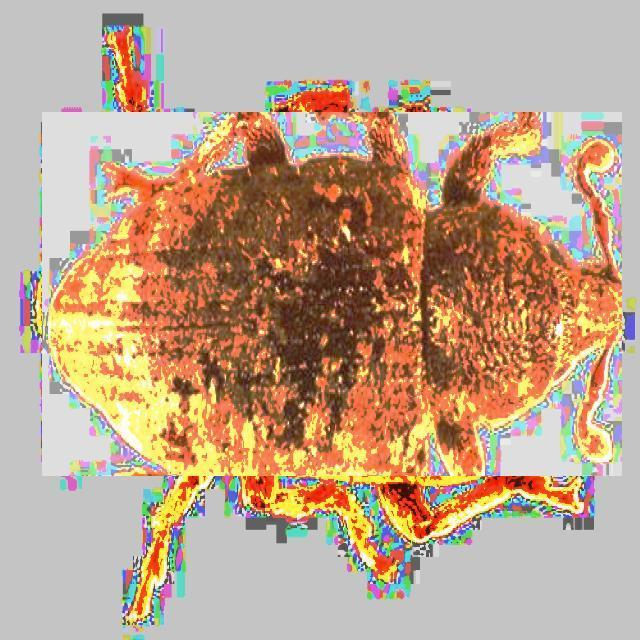rice-bug: (42, 112, 622, 476)
